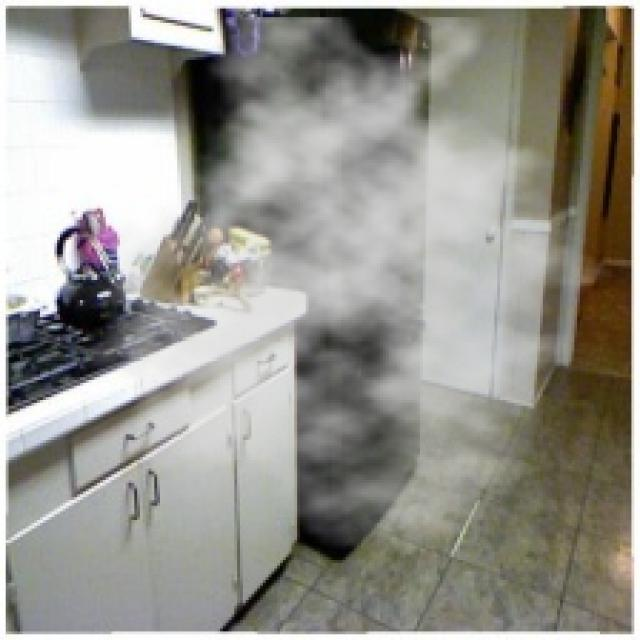Smoke: (82, 17, 634, 552)
